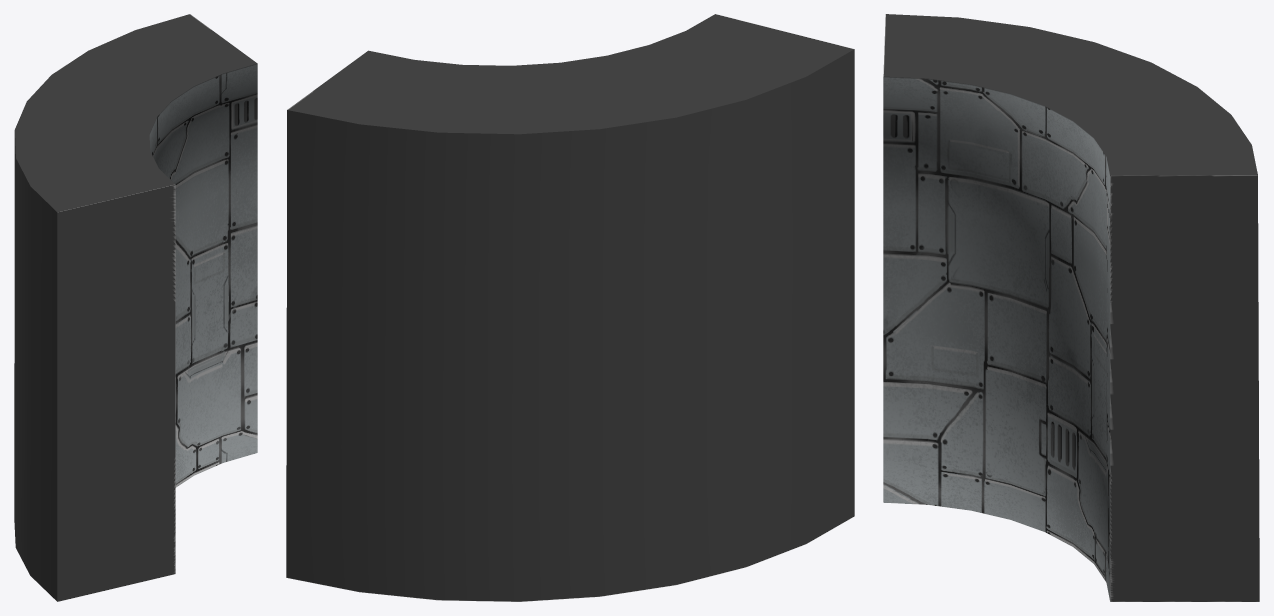
Rendered from wall flat corner2.fbx.
The picture shows the model from 3 angles, left to right: view 1: azimuth 30°, elevation 25°; view 2: azimuth 150°, elevation 25°; view 3: azimuth 270°, elevation 25°; orthographic projection. The views are drawn at different scales.
Parts seen in each view (by area): view 1: hörn_47; view 2: hörn_47; view 3: hörn_47.
Boxes of the visible parts, box(x1,y1,x2,y2) form: hörn_47: box(14, 14, 257, 601); hörn_47: box(286, 14, 854, 601); hörn_47: box(883, 14, 1259, 601).
Size of the model in its own units: 2.38 by 2.93 by 2.34.
